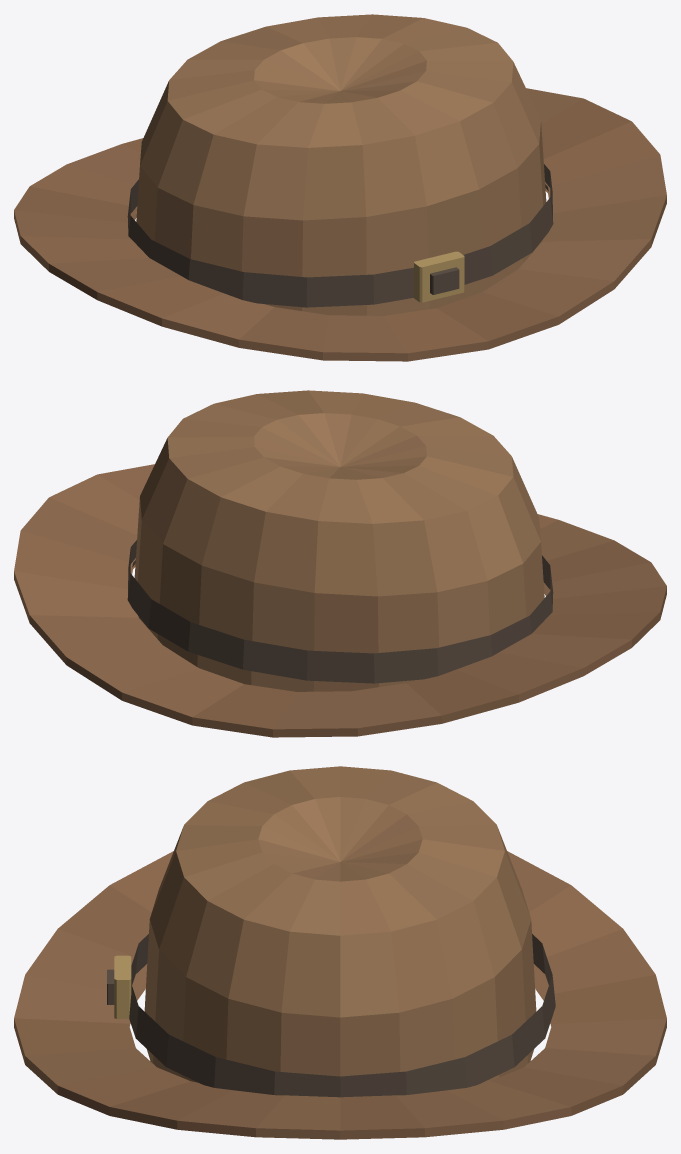
The model's file is hat_cowboy.glb.
3 renders of one model, top to bottom at view 1: azimuth 30°, elevation 25°; view 2: azimuth 150°, elevation 25°; view 3: azimuth 270°, elevation 25°, orthographic. The views are drawn at different scales.
Parts seen in each view (by area): view 1: hat_cowboy; view 2: hat_cowboy; view 3: hat_cowboy.
Part boxes in pixels (<box>): hat_cowboy: <box>14,14,666,361</box>; hat_cowboy: <box>14,390,666,737</box>; hat_cowboy: <box>14,766,666,1139</box>.
Bounding box in the file's own units: 0.74 × 0.218 × 0.6512.
